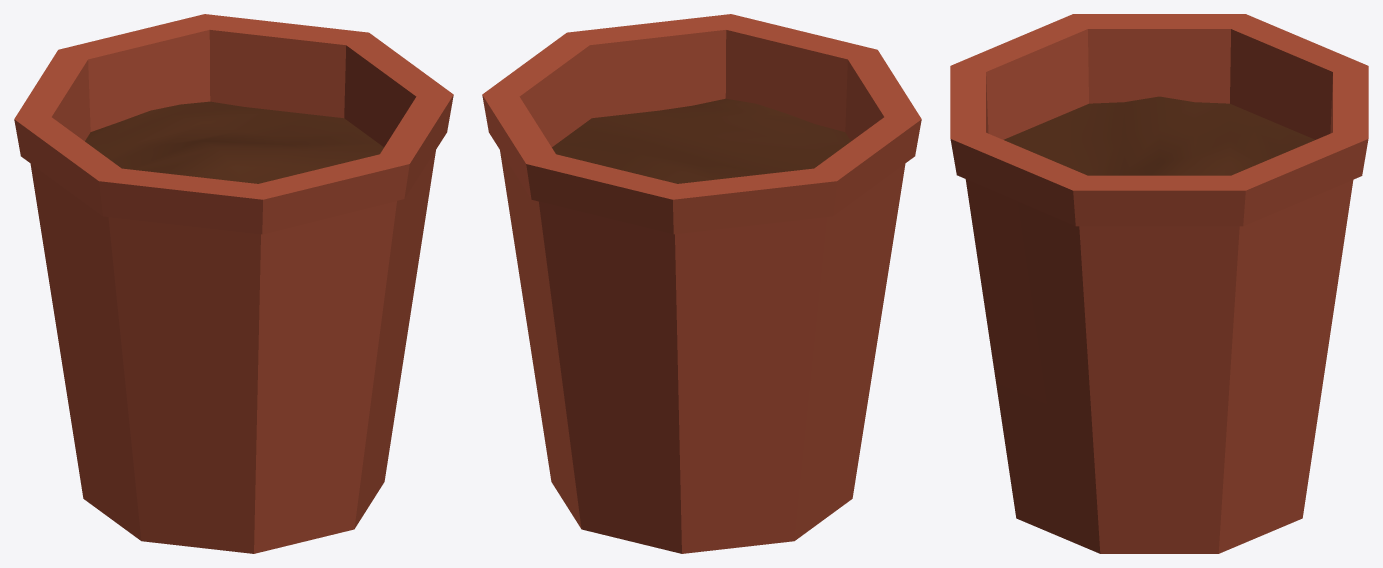
The model's file is plantpot.glb.
3 renders of one model, left to right at view 1: azimuth 30°, elevation 25°; view 2: azimuth 150°, elevation 25°; view 3: azimuth 270°, elevation 25°, orthographic. The views are drawn at different scales.
Parts seen in each view (by area): view 1: Object_4, Object_5; view 2: Object_4, Object_5; view 3: Object_4, Object_5.
Part boxes in pixels (left/top/right/bottom): Object_4: left=14, top=14, right=453, bottom=553; Object_5: left=85, top=101, right=383, bottom=183; Object_4: left=482, top=14, right=921, bottom=553; Object_5: left=552, top=98, right=850, bottom=183; Object_4: left=950, top=14, right=1368, bottom=553; Object_5: left=1004, top=96, right=1315, bottom=175.
Bounding box in the file's own units: 2.15 × 2.22 × 2.15.
